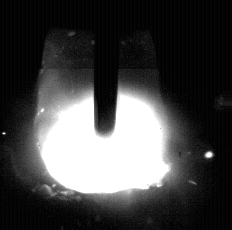arame: (95, 0, 118, 138)
poca: (35, 0, 168, 230)
